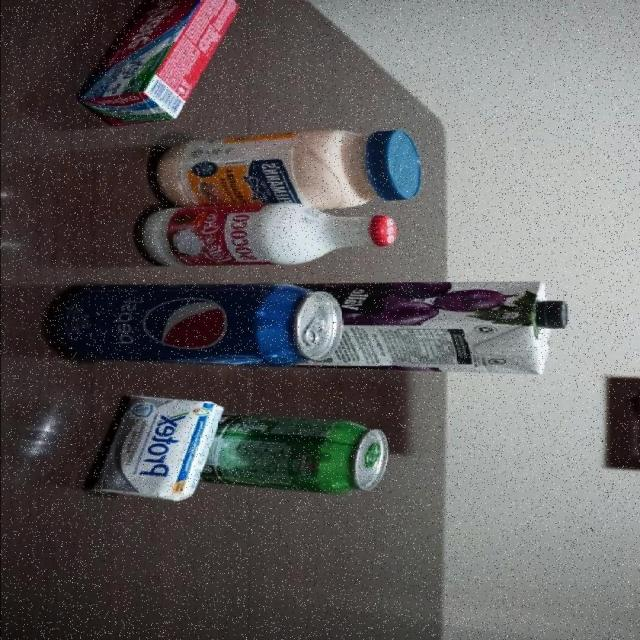BeerCan: (221, 413, 399, 497)
CoconutMilk: (130, 201, 398, 268)
Mayonnaise: (146, 130, 423, 202)
Soap: (85, 391, 224, 502)
SodaCan: (50, 278, 344, 370)
Toothpaste: (81, 0, 241, 123)
